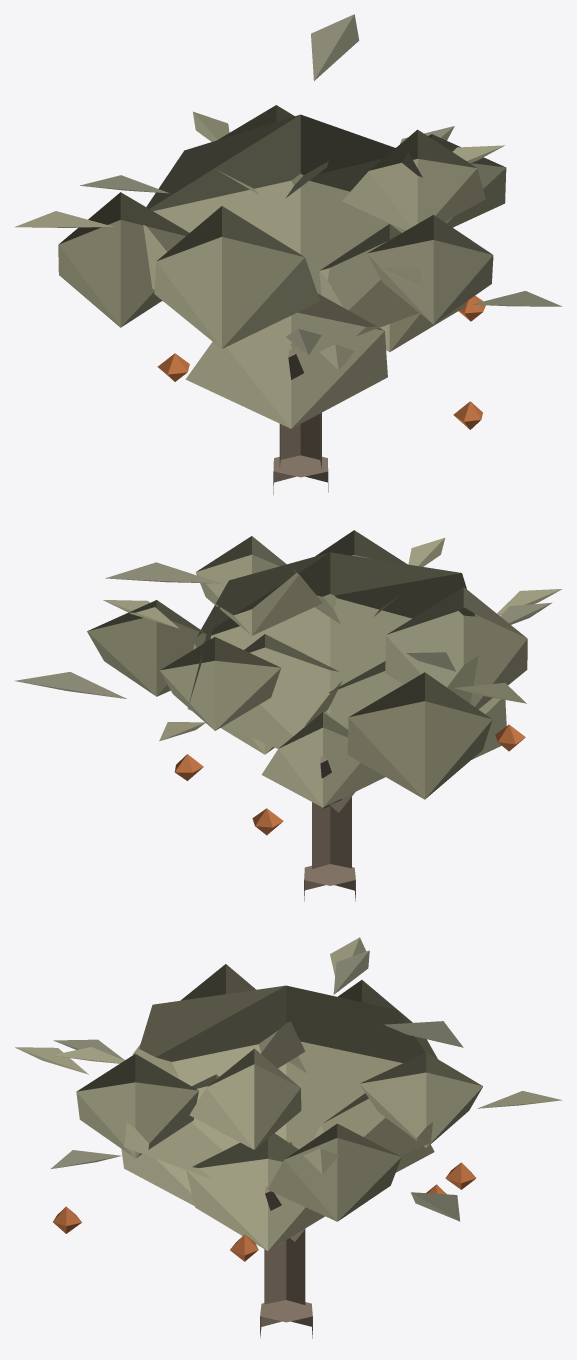
File: shu.ganju@fruiting__winter.glb
The picture shows the model from 3 angles, top to bottom: view 1: azimuth 30°, elevation 25°; view 2: azimuth 150°, elevation 25°; view 3: azimuth 270°, elevation 25°; orthographic projection. The views are drawn at different scales.
Parts seen in each view (by area): view 1: shu.ganju@fruiting__winter; view 2: shu.ganju@fruiting__winter; view 3: shu.ganju@fruiting__winter.
Boxes of the visible parts, x1,y1,x2,y2 form: shu.ganju@fruiting__winter: (14,14,562,494); shu.ganju@fruiting__winter: (14,530,561,901); shu.ganju@fruiting__winter: (15,937,562,1338).
Bounding box in the file's own units: 7.1 × 5.12 × 7.18.
